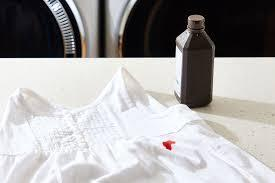blood: (161, 138, 177, 151)
